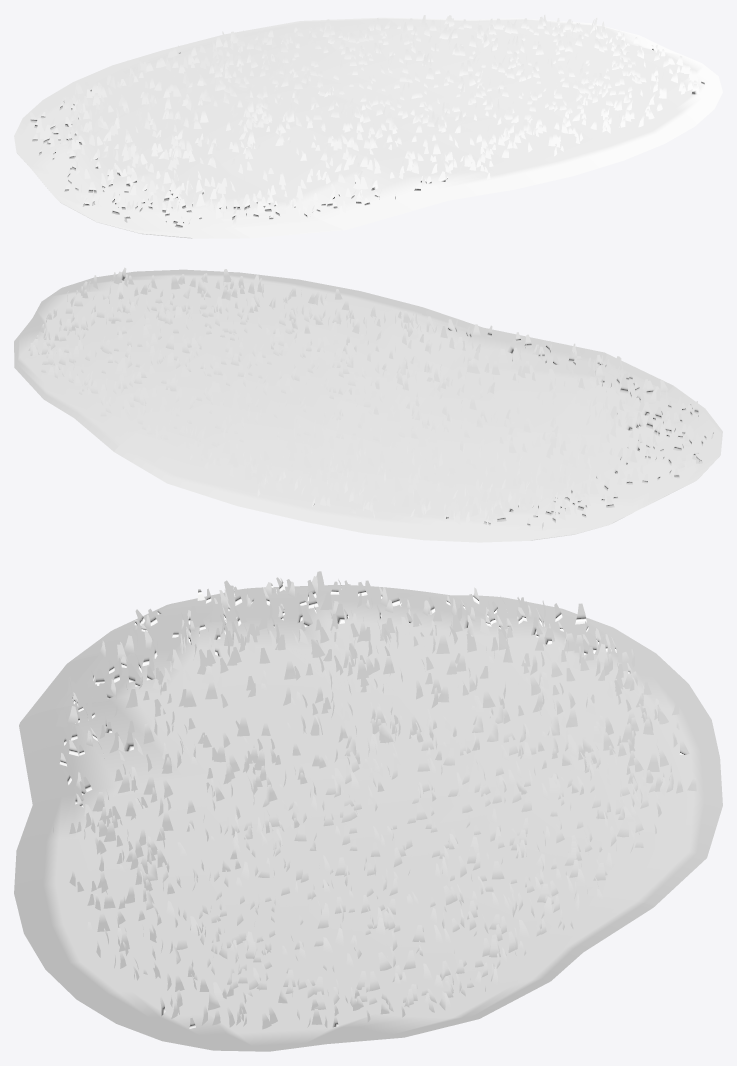
Rendered from SM_MossPatch_Large.fbx.
The picture shows the model from 3 angles, top to bottom: view 1: azimuth 30°, elevation 25°; view 2: azimuth 150°, elevation 25°; view 3: azimuth 270°, elevation 25°; orthographic projection. The views are drawn at different scales.
Visible parts, largest first — view 1: Sphere.005; view 2: Sphere.005; view 3: Sphere.005.
Part boxes in pixels (left/top/right/bottom): Sphere.005: left=14, top=15, right=722, bottom=238; Sphere.005: left=14, top=267, right=722, bottom=542; Sphere.005: left=14, top=571, right=722, bottom=1051.
Bounding box in the file's own units: 1831 × 62.29 × 1177.
